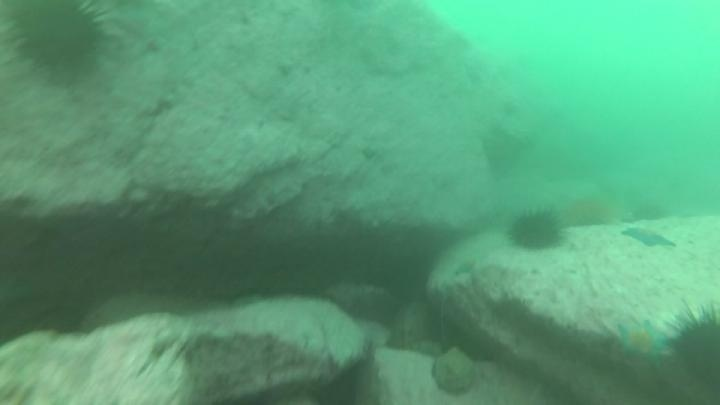echinus: (6, 1, 110, 84), (664, 301, 720, 397), (505, 206, 567, 255), (629, 198, 669, 226)
starfish: (612, 316, 675, 367), (619, 221, 678, 252), (450, 256, 480, 278)
